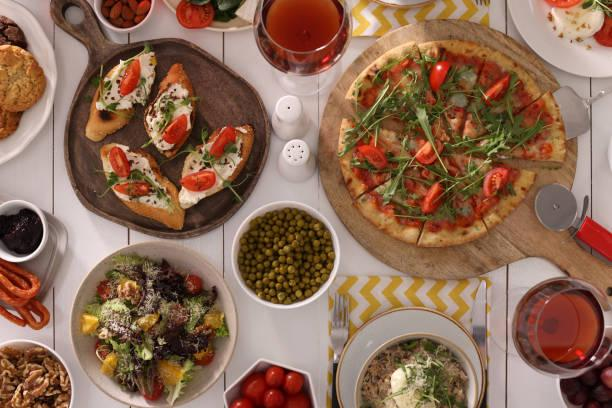Braised Crucian Carp: (320, 19, 605, 292), (50, 6, 268, 239), (68, 241, 235, 407), (336, 305, 485, 406), (232, 201, 338, 308)
